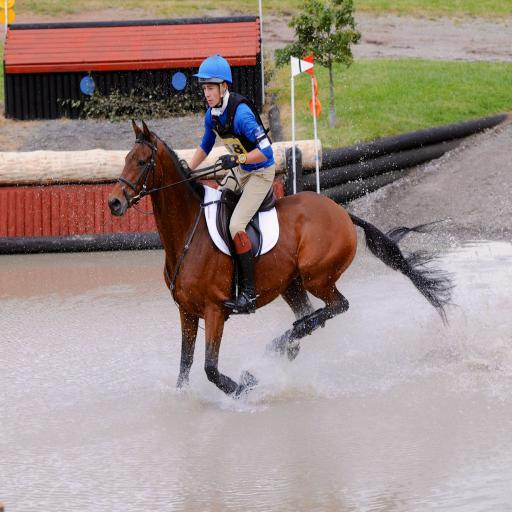Horse: (108, 117, 460, 399)
